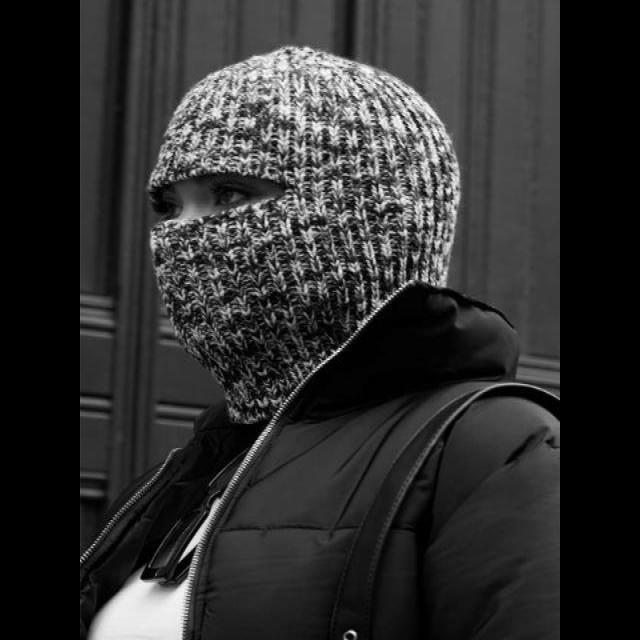6_pasamontana: (147, 45, 461, 426)
